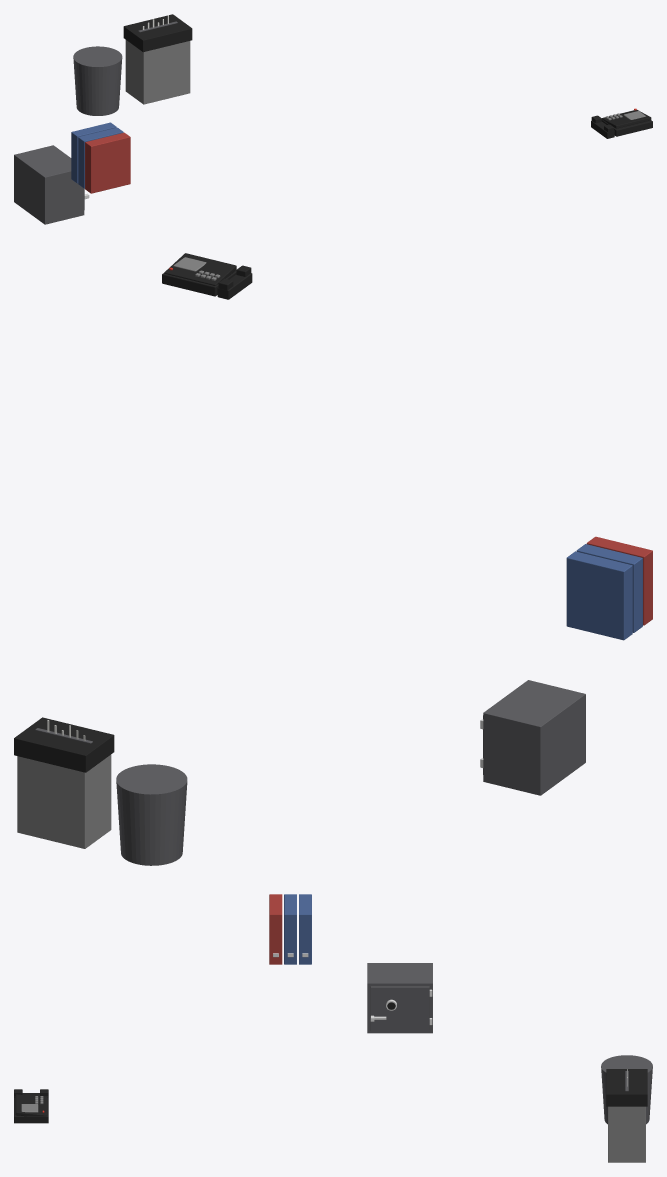
The model's file is custom_props.glb.
The picture shows the model from 3 angles, top to bottom: view 1: azimuth 30°, elevation 25°; view 2: azimuth 150°, elevation 25°; view 3: azimuth 270°, elevation 25°; orthographic projection. The views are drawn at different scales.
Visible parts, largest first — view 1: shredder, safe, waste_bin, binder_3, answering_machine, binder_1, binder_2; view 2: shredder, safe, waste_bin, binder_1, answering_machine, binder_2, binder_3; view 3: shredder, safe_door, safe, answering_machine, waste_bin, binder_3, binder_1, binder_2.
Boxes of the visible parts, x1,y1,x2,y2 form: shredder: (123, 14, 192, 104); safe: (14, 145, 84, 224); waste_bin: (73, 46, 122, 115); binder_3: (85, 132, 130, 193); answering_machine: (591, 108, 652, 138); binder_1: (71, 122, 116, 183); binder_2: (78, 127, 123, 188); shredder: (14, 717, 114, 848); safe: (480, 680, 585, 795); waste_bin: (116, 764, 187, 865); binder_1: (566, 551, 632, 640); answering_machine: (162, 253, 252, 299); binder_2: (576, 544, 642, 632); binder_3: (586, 536, 652, 625); shredder: (606, 1069, 647, 1162); safe_door: (370, 986, 429, 1030); safe: (367, 963, 432, 1033); answering_machine: (14, 1089, 48, 1123); waste_bin: (601, 1055, 652, 1124); binder_3: (269, 894, 282, 964); binder_1: (299, 894, 311, 964); binder_2: (284, 894, 296, 964).
Size of the model in its own units: 3.12 by 0.92 by 3.69.
